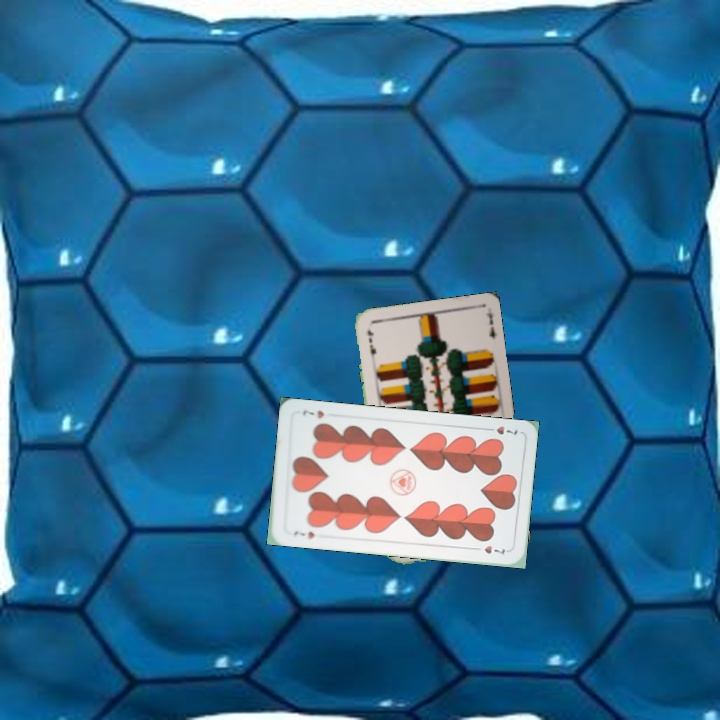E7: (363, 326, 379, 364)
H7: (481, 422, 520, 437), (289, 527, 317, 541)
